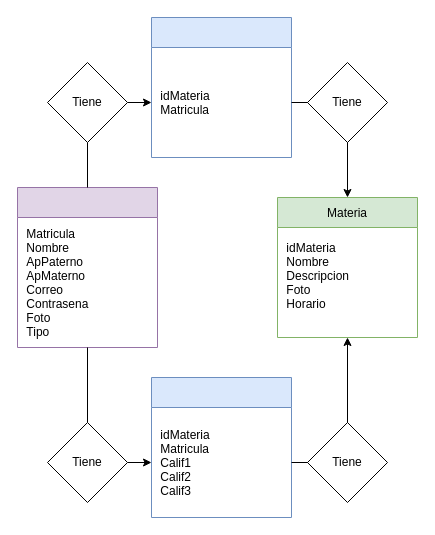
Image size: 435x535. Some labels were removed from this diagram. The box of each missing label's shape, as (x1, y1, x2, y2) in pixels:
DetalleAlumno: (150, 376, 292, 518)
DetalleMaestro: (150, 16, 292, 158)
Usuario: (16, 186, 158, 348)
